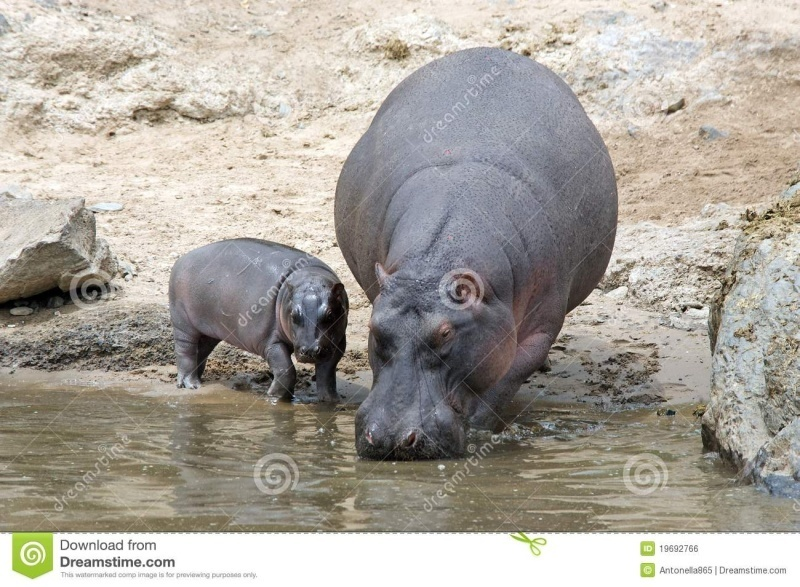hipopotamo: (332, 45, 622, 464), (160, 234, 351, 411)
